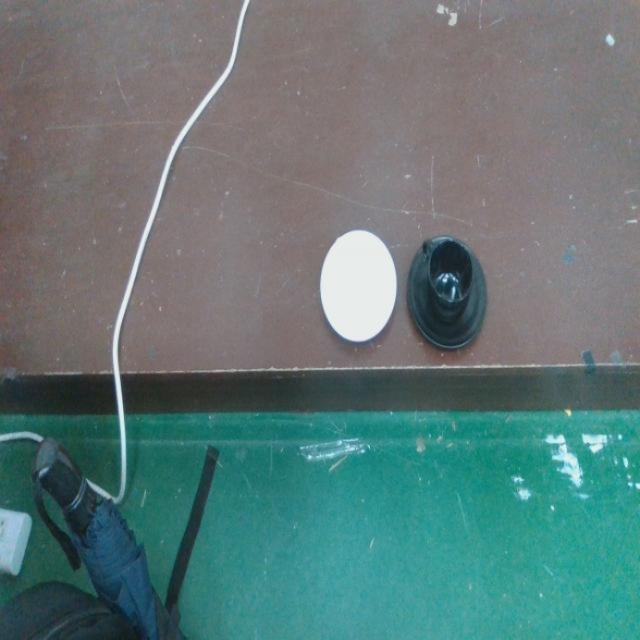black: (405, 232, 489, 354)
white: (317, 225, 399, 350)
